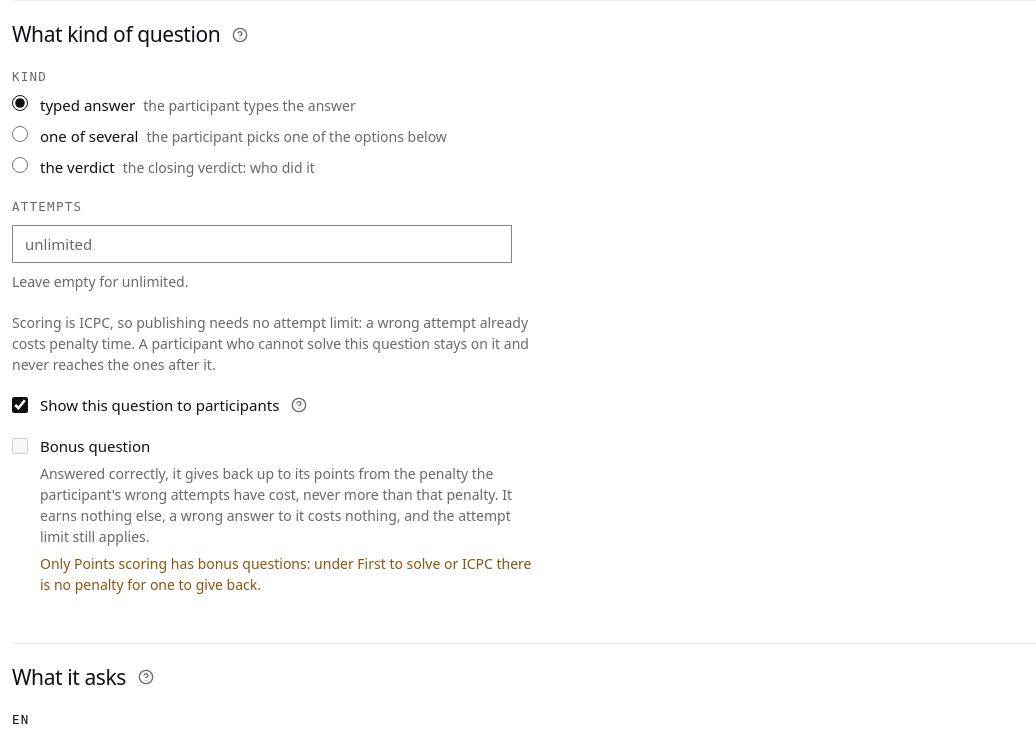
it: QuestionEditor, the penalty and the sequential warning › says an unlimited question is allowed under ICPC, and that publishing is not blocked
Expected: the text "Scoring is ICPC, so publishing needs no attempt limit: a wrong attempt already costs penalty time. A participant who can" is shown, [12, 313, 529, 374]
In the number field labelled "Attempts": (262, 244) [12, 225, 512, 263], type "3"
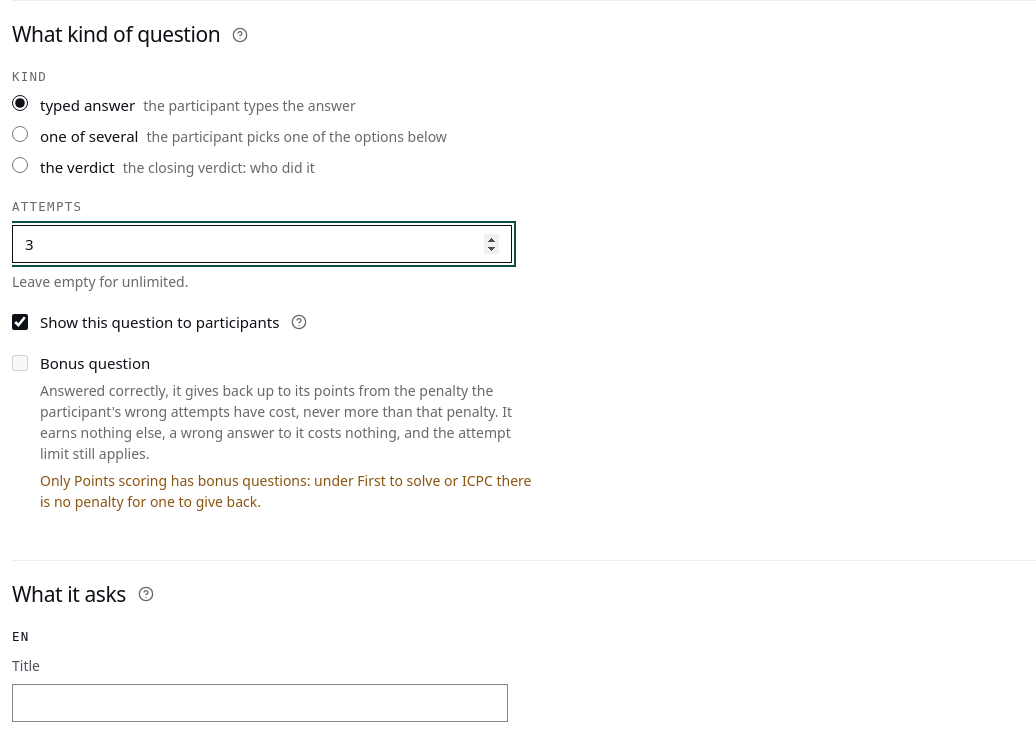
Now the text "Scoring is ICPC, so publishing needs no attempt limit: a wrong attempt already costs penalty time. A participant who can" is gone
